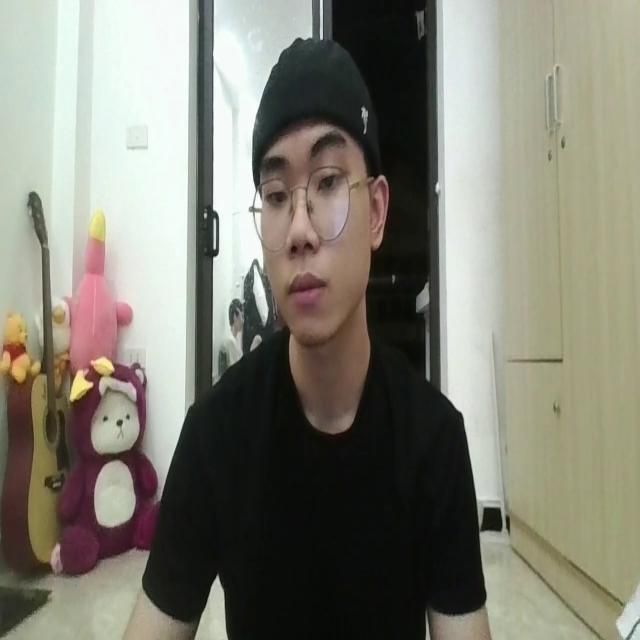student: (132, 42, 496, 640)
